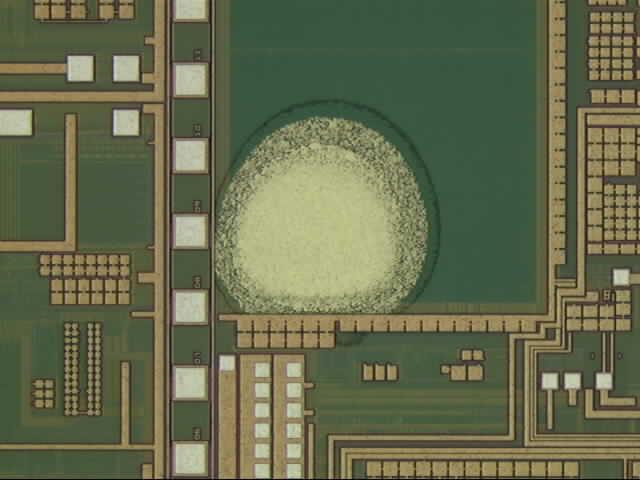BLOCK ETCH: (205, 97, 448, 351)
